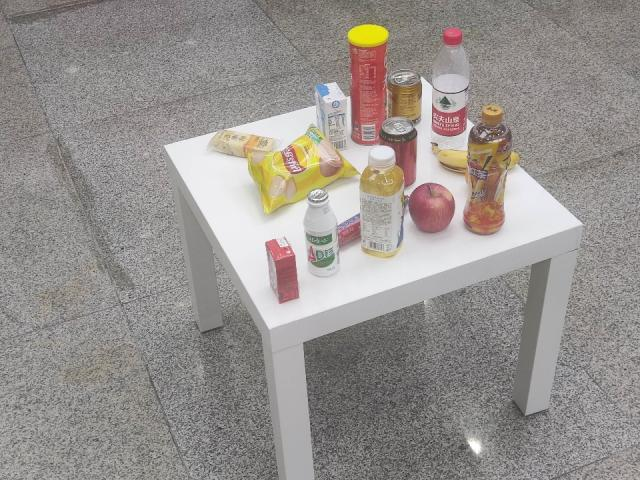Canned_drinks: (377, 116, 419, 186), (388, 69, 423, 125)
bottle: (430, 25, 470, 151)
cylinder: (347, 21, 389, 146)
drink_box: (258, 234, 304, 306), (312, 76, 348, 154)
